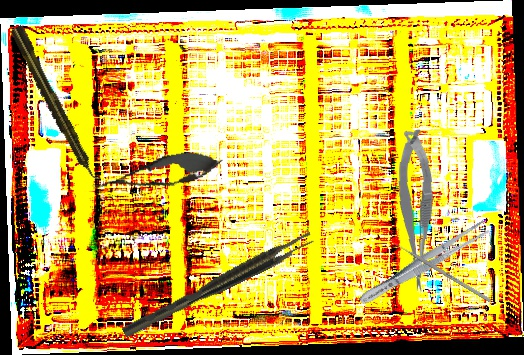Dressing Forceps: (355, 217, 492, 310)
Handpiece: (8, 23, 102, 186)
Micro Scissor: (87, 143, 226, 204), (391, 128, 438, 293)
Pusher: (386, 237, 492, 303)
Tissue Forceps: (118, 229, 317, 339)
